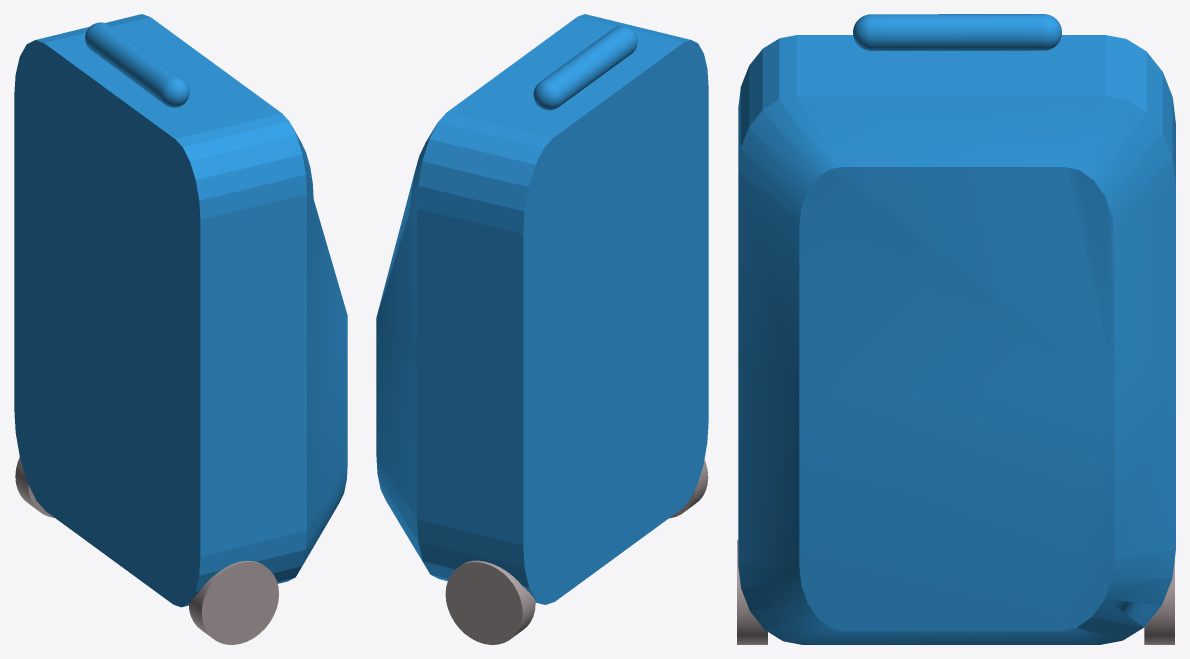
File: kofer1.fbx
3 views of the same model, side by side, from view 1: azimuth 30°, elevation 25°; view 2: azimuth 150°, elevation 25°; view 3: azimuth 270°, elevation 25° (orthographic). The views are drawn at different scales.
Parts seen in each view (by area): view 1: Cube_1, Cylinder, Capsule, Cylinder_3; view 2: Cube_1, Cylinder_3, Capsule, Cylinder; view 3: Cube_1, Capsule, Cylinder_3, Cylinder.
Part boxes in pixels (x1,y1,x2,y2): Cube_1: [14, 14, 347, 607]; Cylinder: [188, 561, 278, 644]; Capsule: [85, 22, 189, 107]; Cylinder_3: [15, 457, 54, 517]; Cube_1: [376, 14, 708, 604]; Cylinder_3: [445, 560, 535, 644]; Capsule: [533, 26, 637, 110]; Cylinder: [669, 459, 708, 518]; Cube_1: [738, 35, 1175, 644]; Capsule: [853, 14, 1061, 50]; Cylinder_3: [1144, 559, 1174, 644]; Cylinder: [737, 540, 767, 644].
Bounding box in the file's own units: 108 × 312 × 201.
